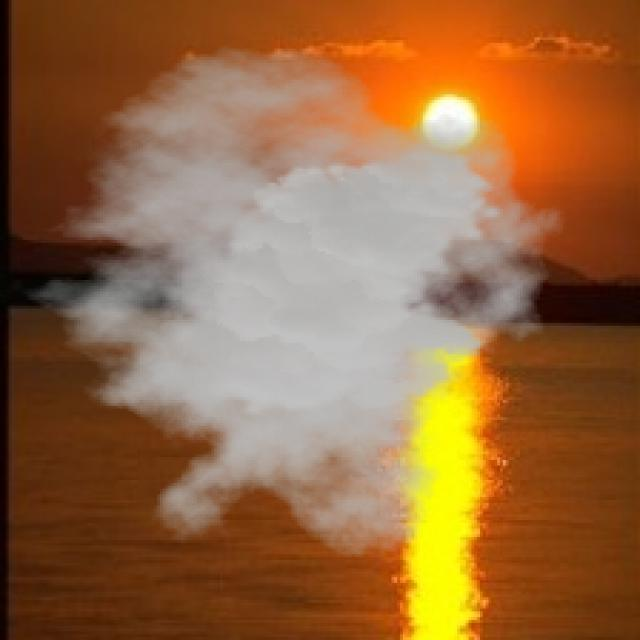smoke: (0, 46, 566, 560)
